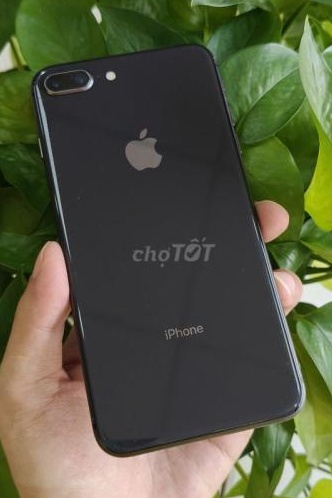scratch: (87, 402, 153, 453), (29, 62, 105, 99), (271, 313, 299, 375), (240, 261, 274, 302), (206, 418, 267, 435), (267, 391, 304, 419), (92, 132, 107, 171), (55, 223, 80, 246), (73, 185, 87, 199)
